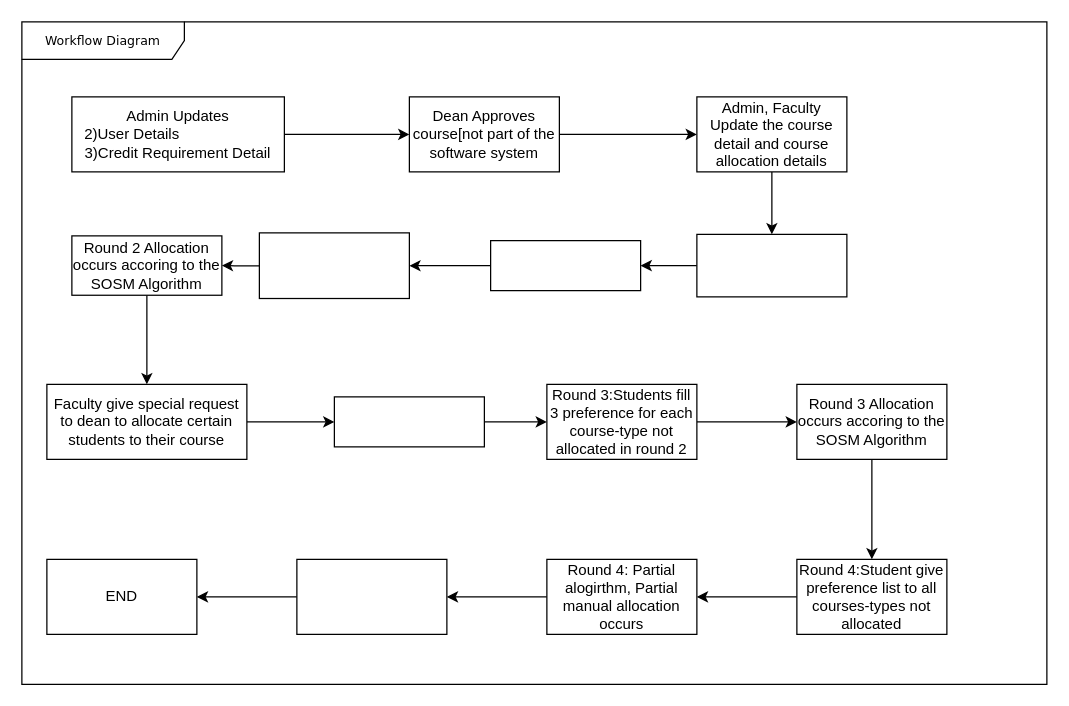
This 1069x706 diagram has some shape labels left out. Each missing label, with the centre of its shape:
"Current years course allocation Data updated to database" goes at pixel 371 596.
"Dean Decides on request" goes at pixel 408 421.
"Round 1 Allocation occurs" goes at pixel 565 265.
"Round 1:Students fill compulsory Courses" goes at pixel 771 265.
"Round 2:Students fill 3 preference for each course-type" goes at pixel 333 265.
